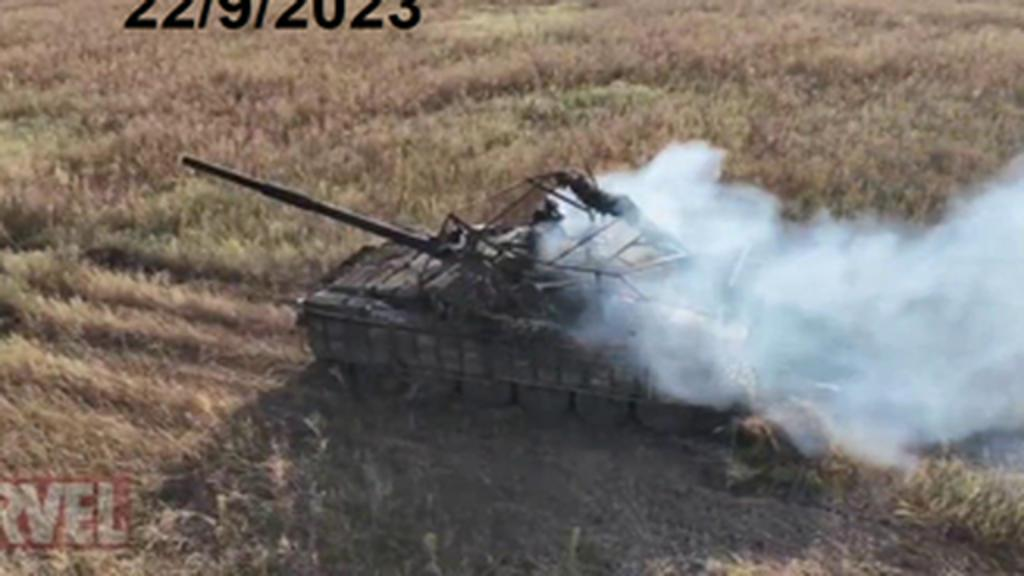TANK: (170, 138, 800, 436)
